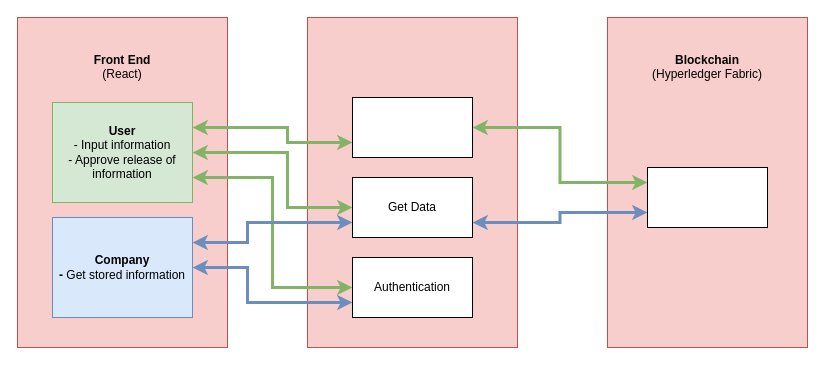
Image size: 825x365. Some labels were removed from this diagram. Here are the shapes that lost their labels. From the top down, the box of each, then its label:
(352, 96, 472, 158): Store Data
(306, 16, 518, 348): API (Express)
(646, 166, 768, 228): Data Storage
